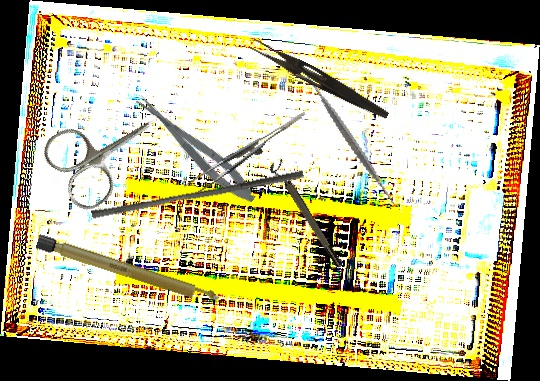Dressing Forceps: (247, 37, 393, 122)
Fixation Ring: (267, 157, 345, 273)
Iris Scissors: (37, 85, 178, 217)
Micro Scissor: (132, 87, 261, 210)
Pusher: (90, 162, 305, 226)
Scalpel Handle: (35, 234, 221, 307)
Spatula Surgical: (275, 64, 426, 214)
Tissue Forceps: (176, 111, 317, 199)
